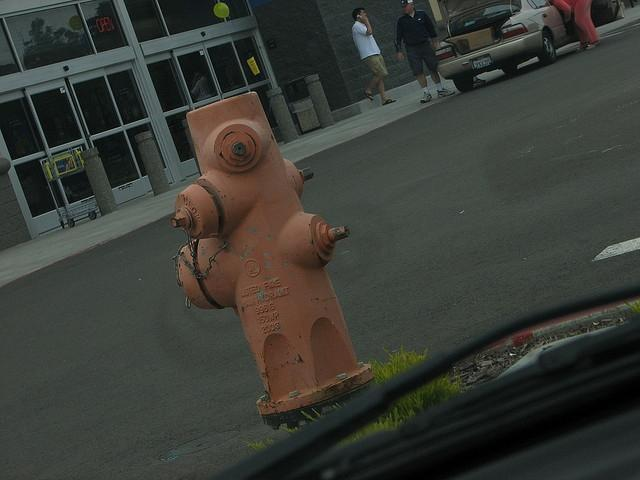car: (439, 0, 576, 95)
